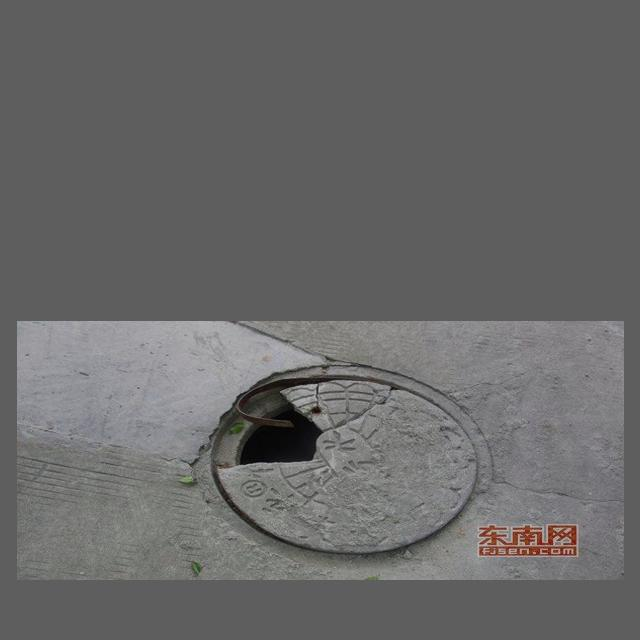broke: (181, 355, 505, 573)
